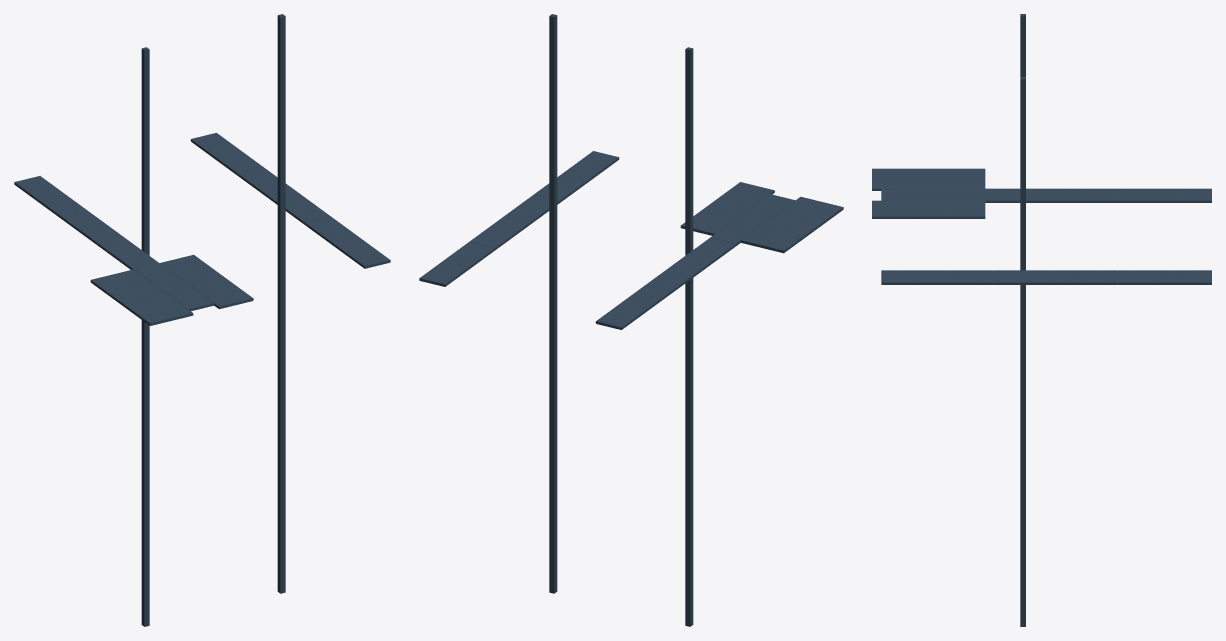
The model's file is v02-detailed-02-04.glb.
3 views of the same model, side by side, from view 1: azimuth 30°, elevation 25°; view 2: azimuth 150°, elevation 25°; view 3: azimuth 270°, elevation 25° (orthographic). The views are drawn at different scales.
Parts seen in each view (by area): view 1: v02-detailed-02-04; view 2: v02-detailed-02-04; view 3: v02-detailed-02-04.
Boxes of the visible parts, x1,y1,x2,y2 form: v02-detailed-02-04: [14, 14, 390, 626]; v02-detailed-02-04: [419, 14, 843, 626]; v02-detailed-02-04: [872, 14, 1211, 626].
Size of the model in its own units: 57.1 by 128 by 72.
Materials: 3 (1 with a texture image).
